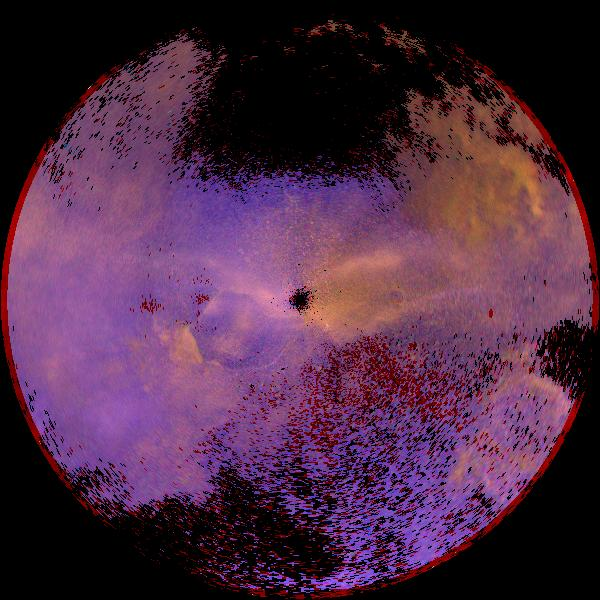roost: (96, 299, 228, 431), (46, 312, 175, 441)
